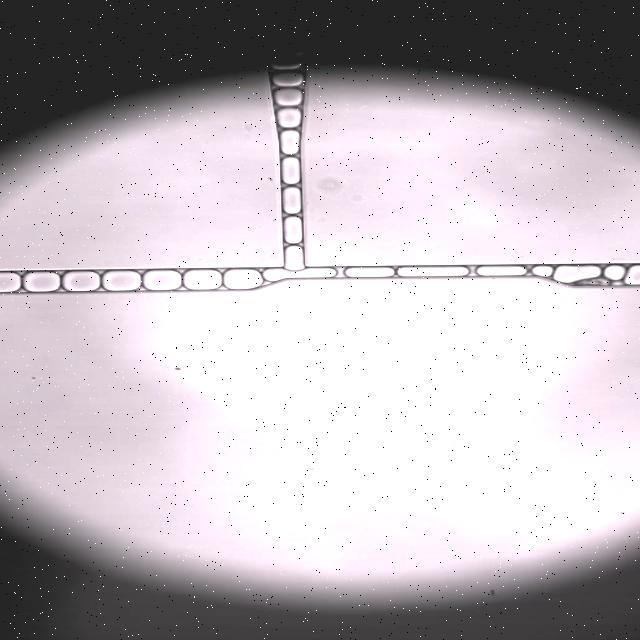L: (477, 265, 553, 277), (273, 88, 303, 107), (283, 217, 302, 243), (345, 267, 394, 277), (282, 157, 300, 184), (283, 187, 301, 214), (280, 130, 300, 154), (284, 246, 304, 270), (272, 72, 303, 87), (277, 109, 301, 128), (625, 265, 640, 285), (272, 63, 301, 71)
S: (553, 265, 626, 285), (262, 268, 336, 282), (62, 271, 100, 291), (184, 270, 222, 289), (224, 270, 262, 289), (397, 267, 468, 277), (104, 271, 141, 290), (24, 272, 60, 291), (145, 271, 180, 290), (0, 272, 21, 292)
